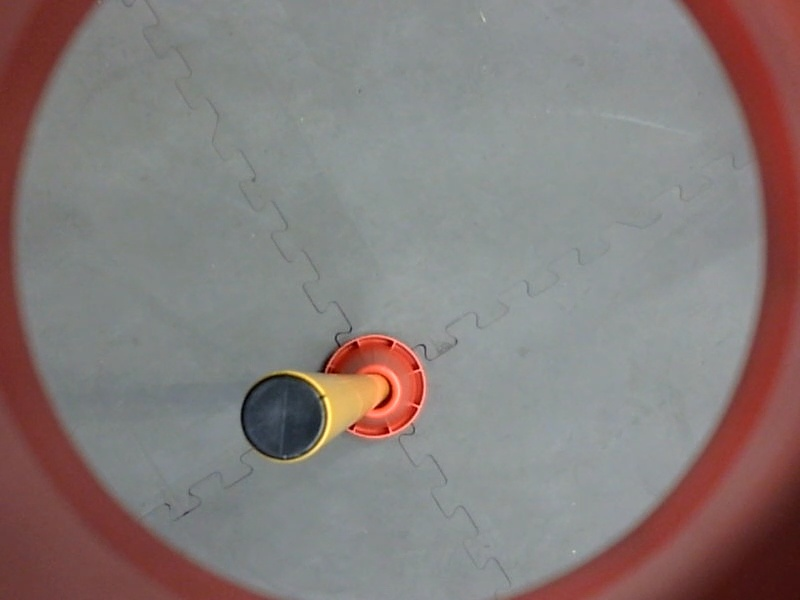tip: (233, 360, 337, 470)
